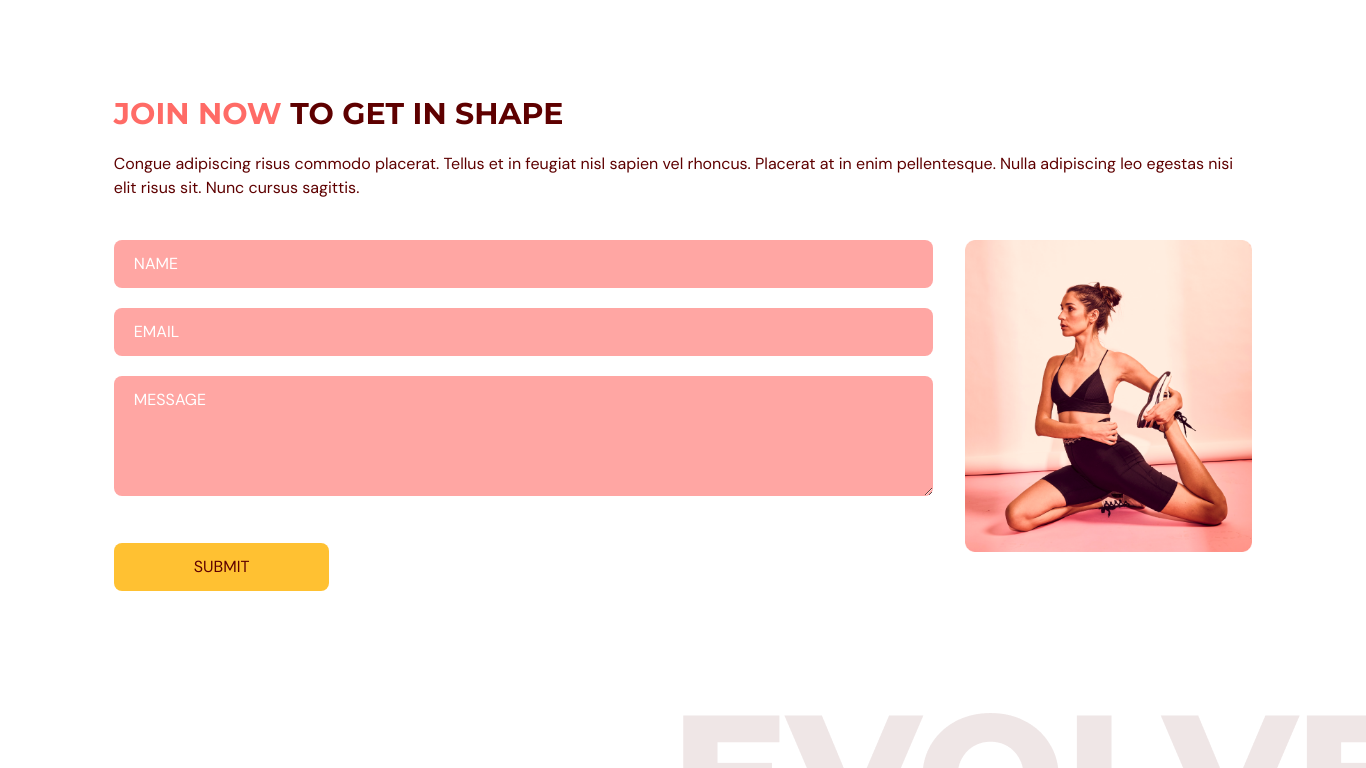
ContactUs Test › Affichage du message [Invalid email adress] pour l'input Email
Simulate user input
Type "John Doe" into the field with placeholder "NAME".
click(524, 264); type("John Doe")  # box [114,240,933,288]
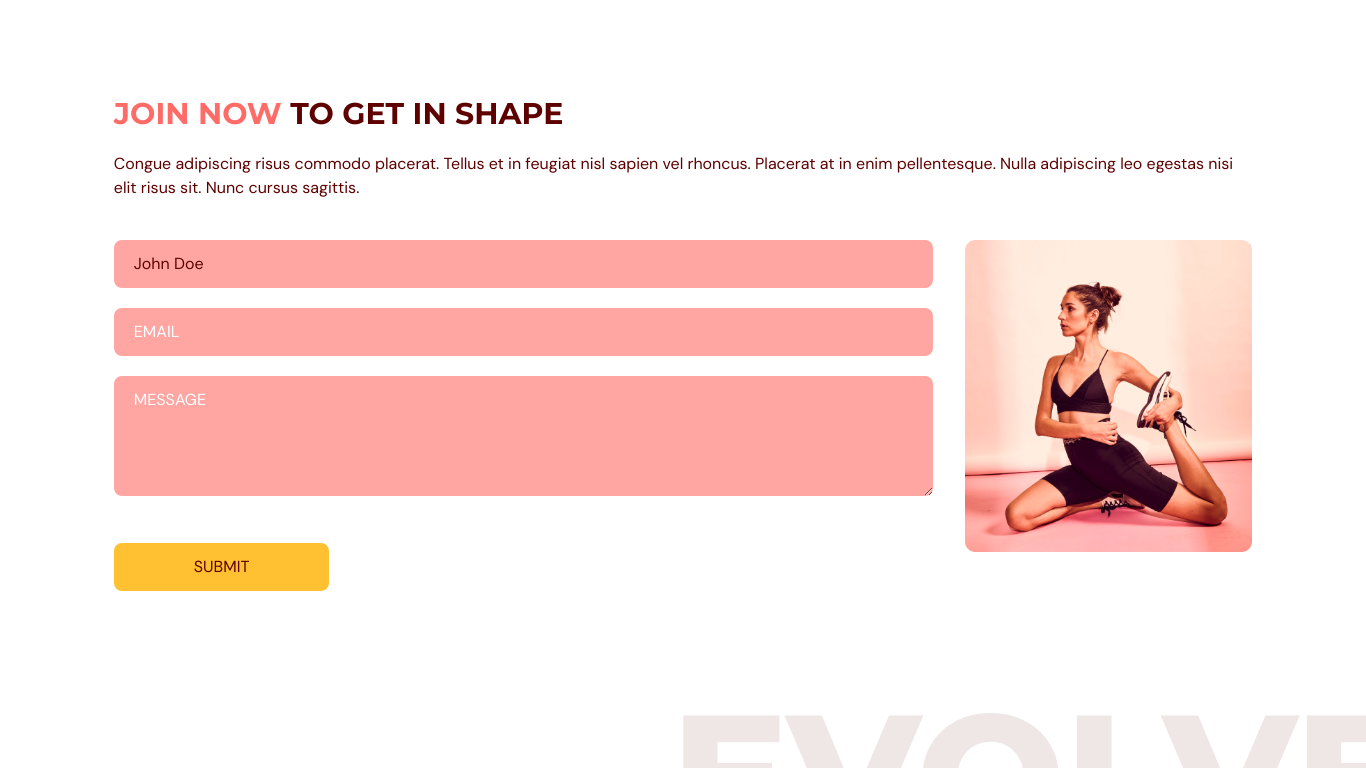
Type "john" into the field with placeholder "EMAIL".
click(524, 332); type("john")  # box [114,308,933,356]
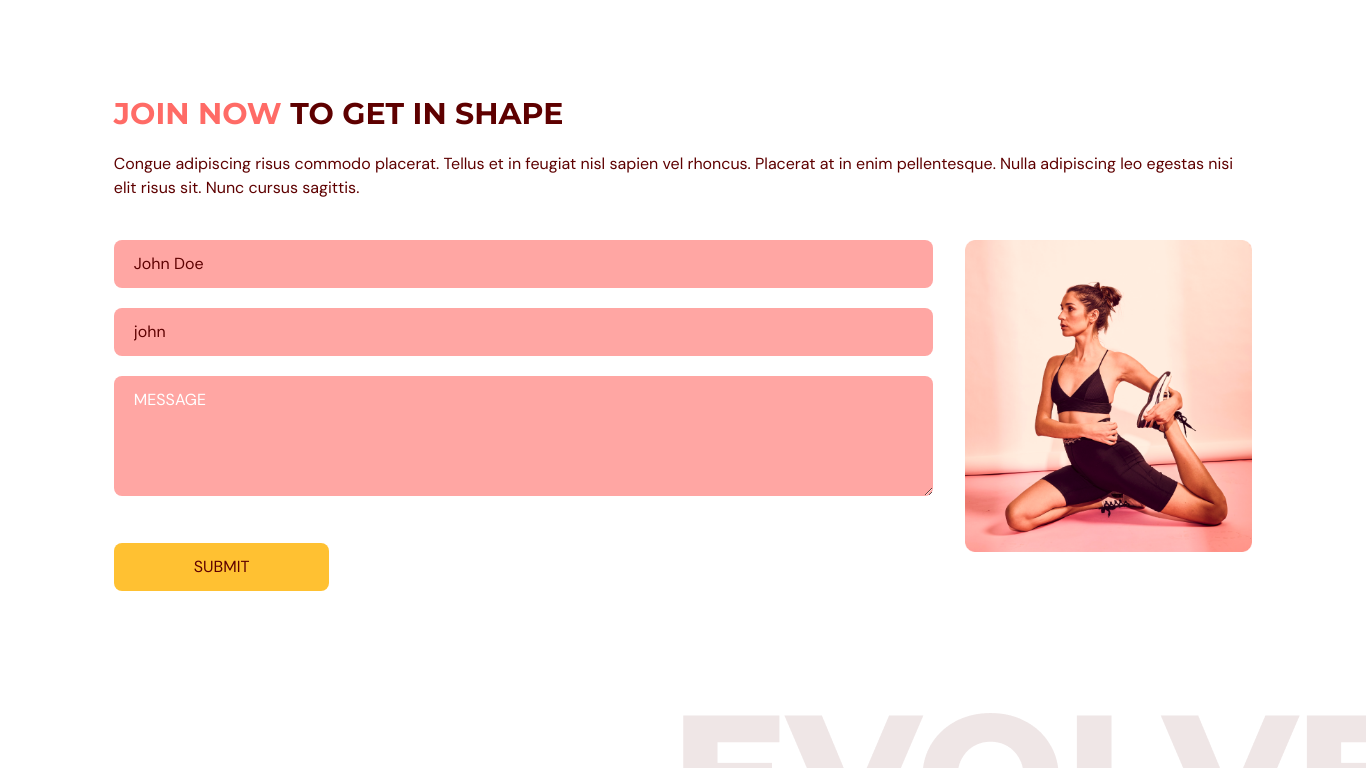
Type "Hello, world!" into the text box with placeholder "MESSAGE".
click(524, 436); type("Hello, world!")  # box [114,376,933,496]
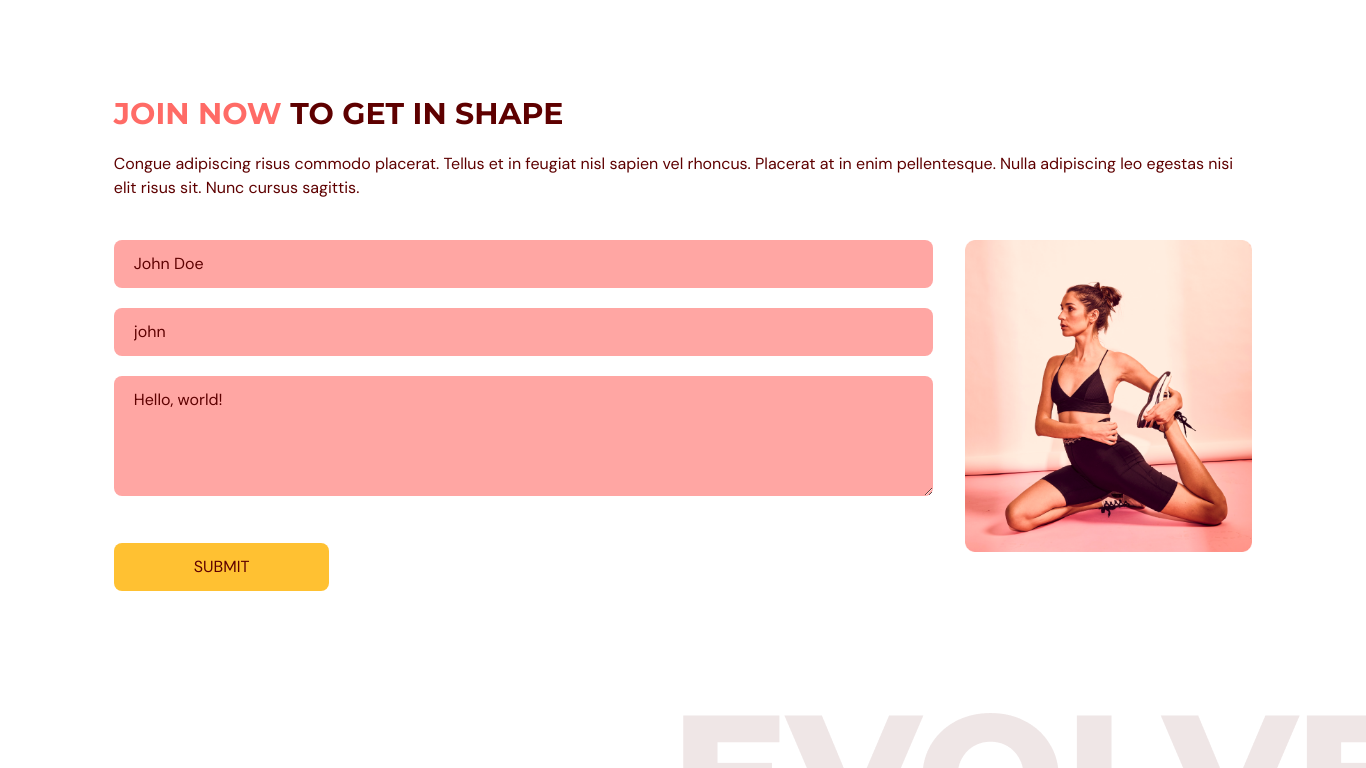
Submit the form
Click the button "SUBMIT".
click(222, 567)  # box [114,543,329,591]
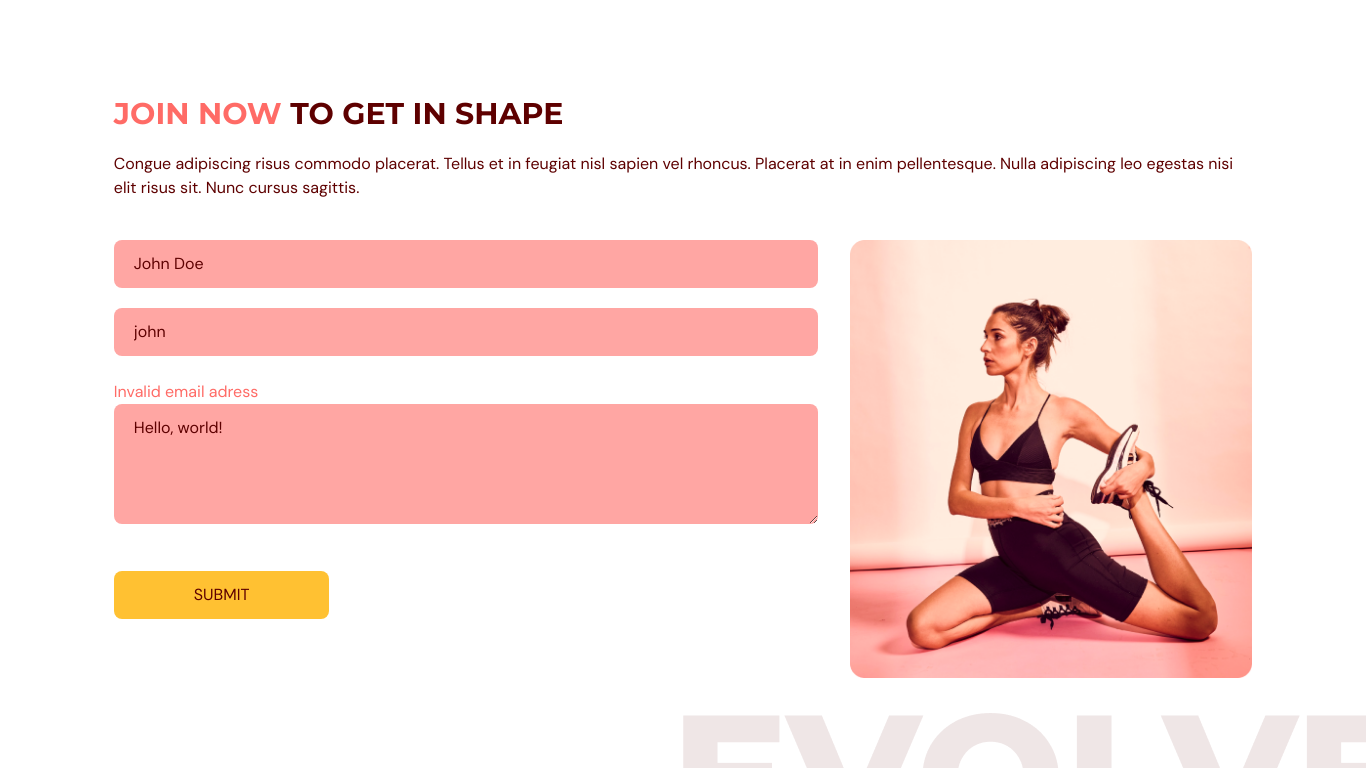
Check: the text "Invalid email adress" is shown, box [114,381,258,402]
